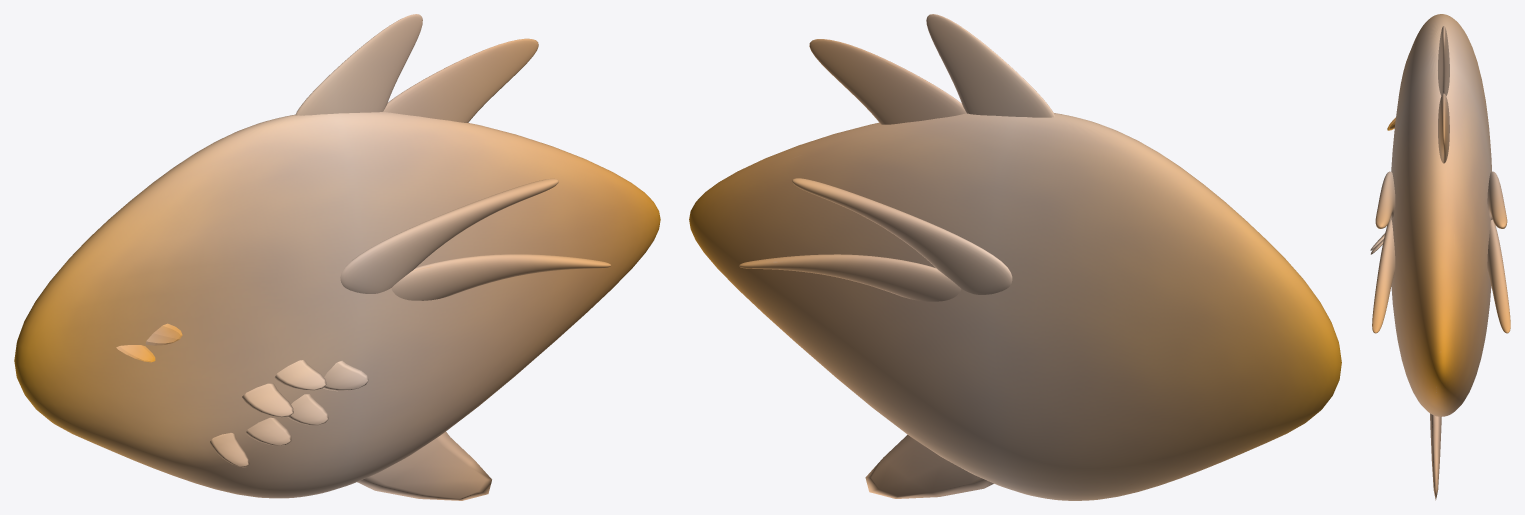
The model's file is yellowfish body.fbx.
3 views of the same model, side by side, from view 1: azimuth 30°, elevation 25°; view 2: azimuth 150°, elevation 25°; view 3: azimuth 270°, elevation 25° (orthographic). The views are drawn at different scales.
Parts seen in each view (by area): view 1: fish; view 2: fish; view 3: fish.
Boxes of the visible parts, x1,y1,x2,y2 form: fish: (14,14,660,500); fish: (689,14,1341,500); fish: (1370,14,1510,500).
Size of the model in its own units: 386 by 283 by 82.03.
Materials: 1 (1 with a texture image).
